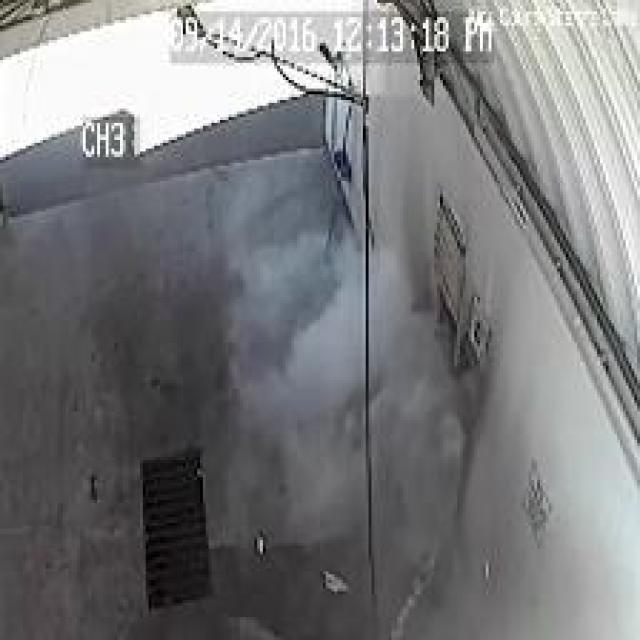fire: (216, 231, 478, 540)
